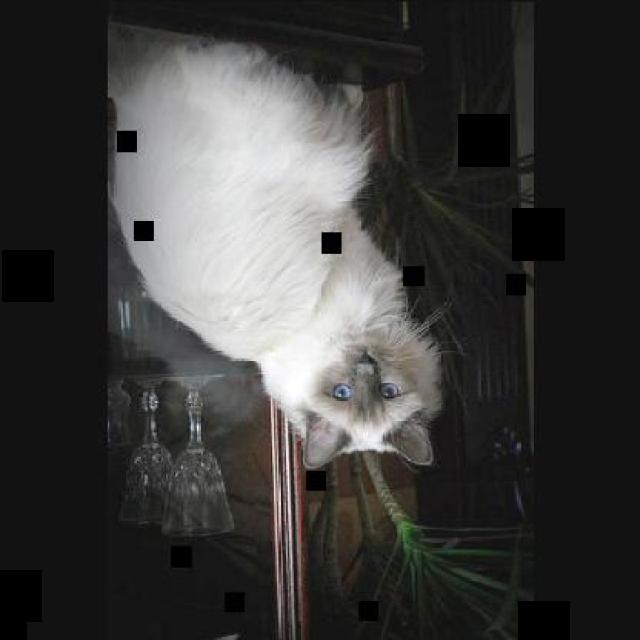unauthorized: (107, 30, 456, 472)
